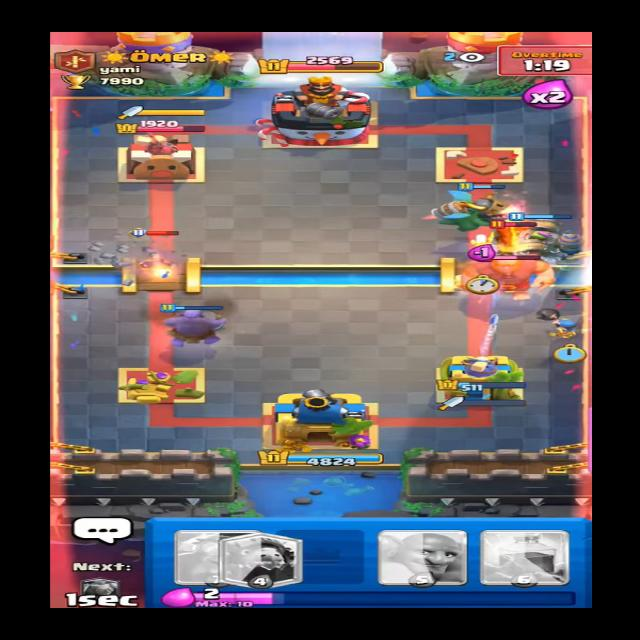evo-wizard: (124, 236, 203, 292)
giant: (452, 252, 566, 300)
